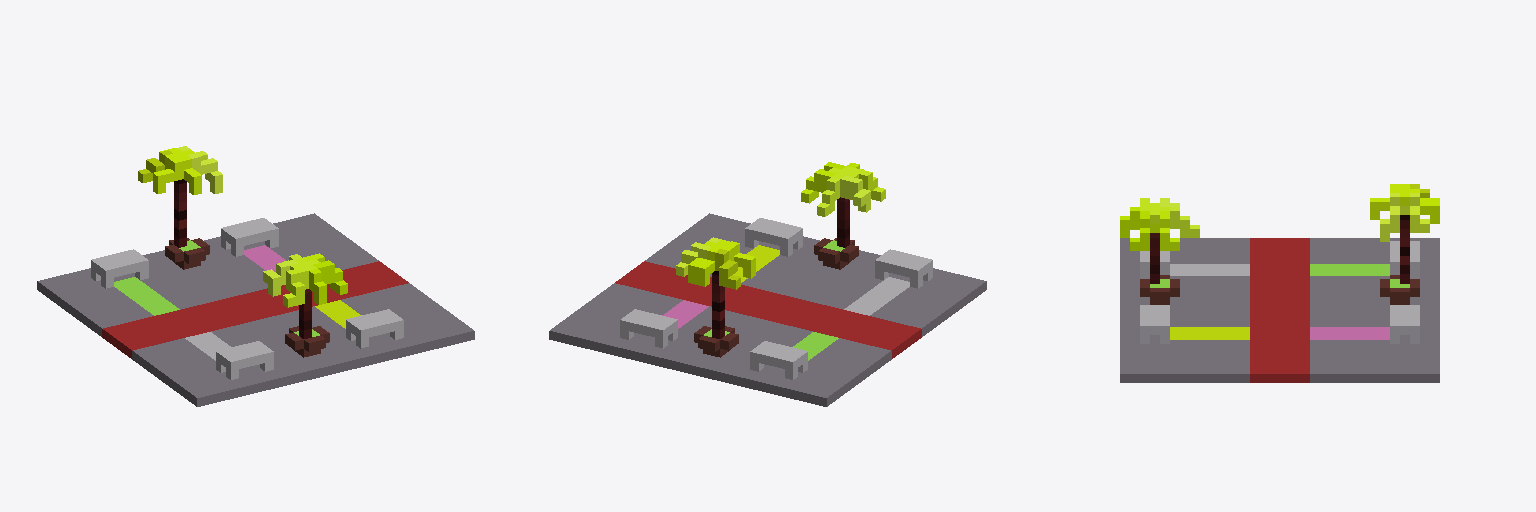
3 views of the same model, side by side, from view 1: azimuth 30°, elevation 25°; view 2: azimuth 150°, elevation 25°; view 3: azimuth 270°, elevation 25° (orthographic).
Parts seen in each view (by area): view 1: object 1; view 2: object 1; view 3: object 1.
Part boxes in pixels (x1,y1,x2,y2): object 1: (37,146,474,406); object 1: (549,162,986,406); object 1: (1120,184,1439,382).
Size of the model in its own units: 25.6 by 10.4 by 25.6.
1 materials, 1 textured.